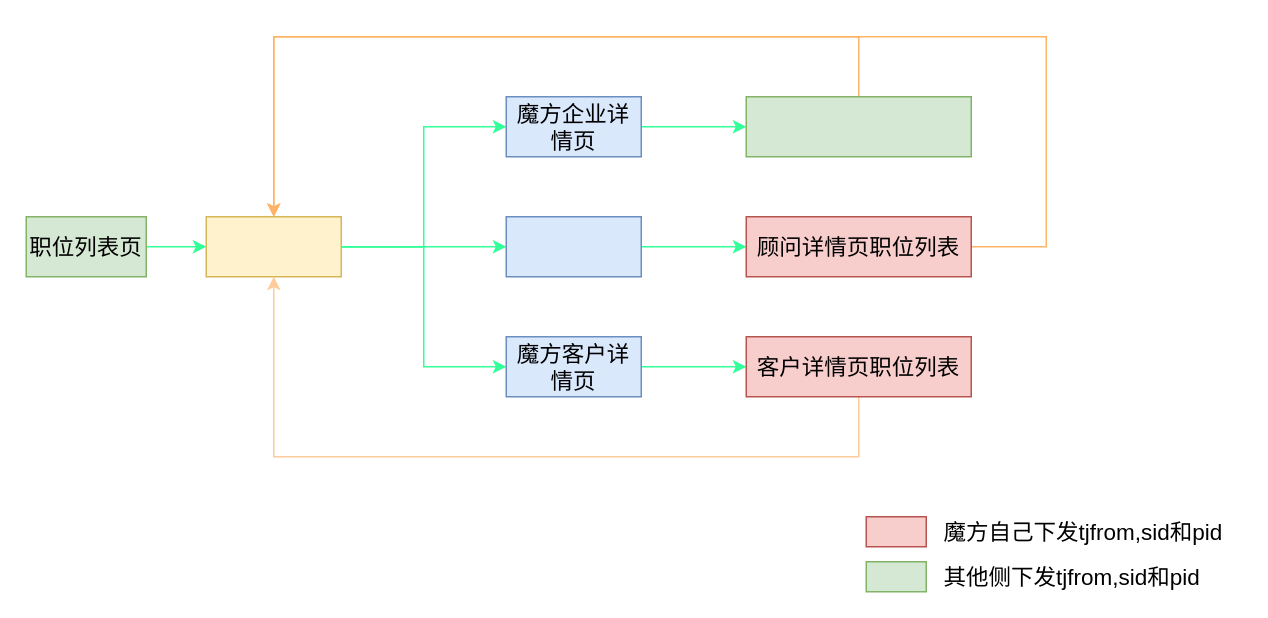
Image size: 1268x618. Some labels were removed from this diagram. Here are the shapes that lost their labels. From the top down, the centre of each, then its label:
point (858, 126): 企业详情页职位列表
point (273, 246): 职位详情页
point (573, 246): 顾问详情页
